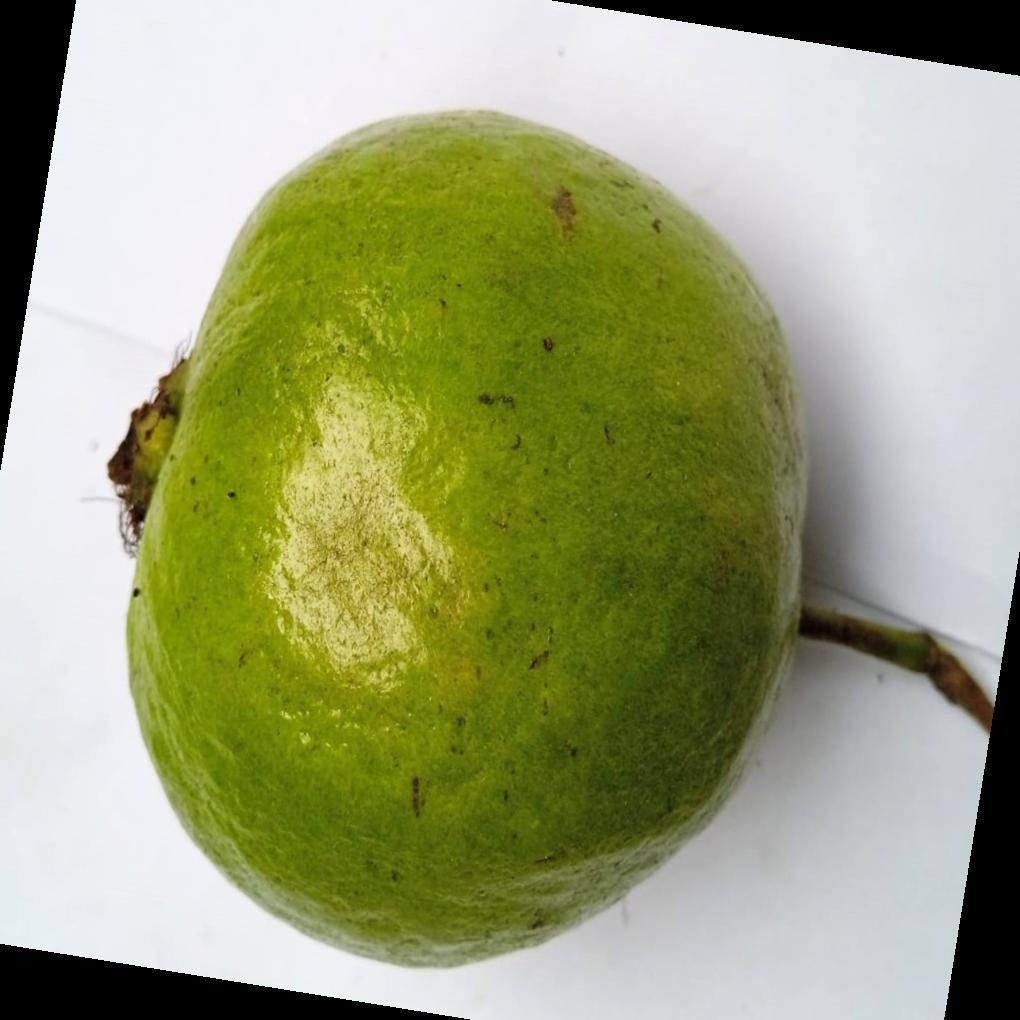FreshGuava: (114, 109, 809, 975)
